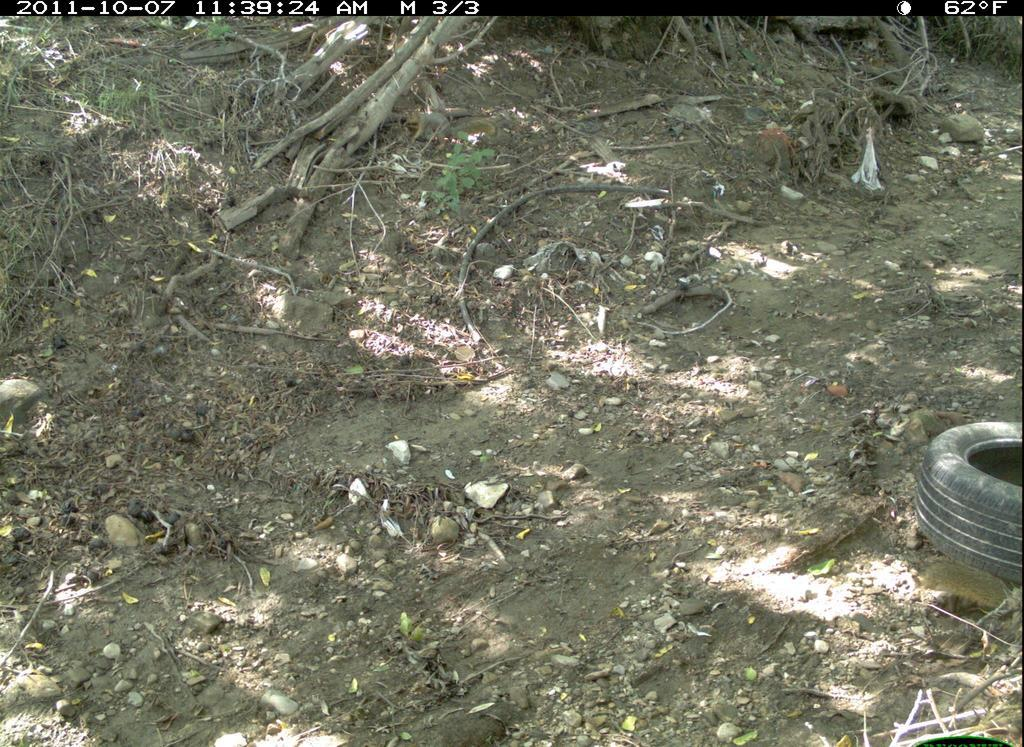squirrel: (917, 536, 1021, 638)
